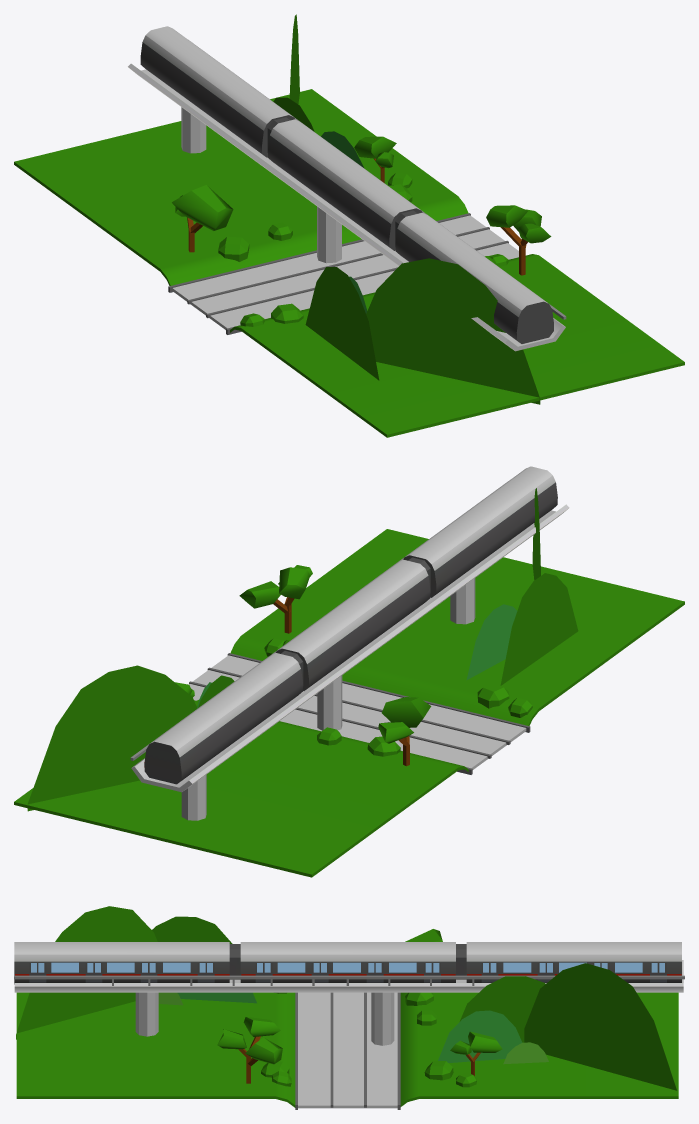
The model's file is L1 MRT Chunk.fbx.
The picture shows the model from 3 angles, top to bottom: view 1: azimuth 30°, elevation 25°; view 2: azimuth 150°, elevation 25°; view 3: azimuth 270°, elevation 25°; orthographic projection. The views are drawn at different scales.
Visible parts, largest first — view 1: pCube7039, pCube7035, pasted__pasted__pCube5516, pCube7041, pCube7103, pCube7192, pCube7185, pasted__pCube5619, pCube7109, pCube7194, pCube7193, pCylinder21 (+6 smaller); view 2: pCube7039, pCube7035, pasted__pasted__pCube5515, pCube7192, pCube7041, pCube7103, pCube7185, pCube7109, pasted__pCube5619, pasted__pasted__pCube5517, pCube7193, pCube7194 (+4 smaller); view 3: pCube7035, pCube7039, pasted__pasted__pCube5515, pCube7041, pCube7185, pCube7103, pCube7192, pasted__pasted__pCube5516, pCube7109, pCube7120, pasted__pCube5617, pasted__pasted__pCube5514 (+15 smaller).
Boxes of the visible parts, left/top/right/bottom form: pCube7039: left=14, top=89, right=468, bottom=285; pCube7035: left=230, top=254, right=684, bottom=437; pasted__pasted__pCube5516: left=366, top=258, right=540, bottom=404; pCube7041: left=172, top=215, right=518, bottom=329; pCube7103: left=268, top=119, right=422, bottom=250; pCube7192: left=140, top=26, right=294, bottom=157; pCube7185: left=395, top=212, right=553, bottom=343; pasted__pCube5619: left=305, top=267, right=379, bottom=380; pCube7109: left=128, top=63, right=565, bottom=351; pCube7194: left=172, top=185, right=233, bottom=252; pCube7193: left=486, top=205, right=551, bottom=275; pCylinder21: left=317, top=206, right=341, bottom=263; pCube7039: left=14, top=700, right=468, bottom=877; pCube7035: left=230, top=529, right=684, bottom=726; pasted__pasted__pCube5515: left=27, top=665, right=197, bottom=811; pCube7192: left=144, top=653, right=302, bottom=784; pCube7041: left=189, top=655, right=526, bottom=769; pCube7103: left=275, top=559, right=430, bottom=690; pCube7185: left=403, top=466, right=557, bottom=597; pCube7109: left=131, top=504, right=569, bottom=792; pasted__pCube5619: left=500, top=573, right=578, bottom=685; pasted__pasted__pCube5517: left=466, top=604, right=517, bottom=680; pCube7193: left=239, top=565, right=312, bottom=633; pCube7194: left=378, top=697, right=431, bottom=766; pCube7035: left=16, top=992, right=295, bottom=1107; pCube7039: left=400, top=992, right=678, bottom=1106; pasted__pasted__pCube5515: left=524, top=963, right=676, bottom=1090; pCube7041: left=298, top=992, right=397, bottom=1108; pCube7185: left=14, top=942, right=229, bottom=984; pCube7103: left=240, top=942, right=455, bottom=982; pCube7192: left=466, top=942, right=681, bottom=982; pasted__pasted__pCube5516: left=16, top=906, right=157, bottom=1039; pCube7109: left=14, top=960, right=683, bottom=992; pCube7120: left=14, top=975, right=684, bottom=979; pasted__pCube5617: left=459, top=976, right=545, bottom=1042; pasted__pasted__pCube5514: left=438, top=1010, right=522, bottom=1062.
Size of the model in its own units: 12.44 by 5.43 by 26.92.
Materials: 3 (3 with a texture image).
